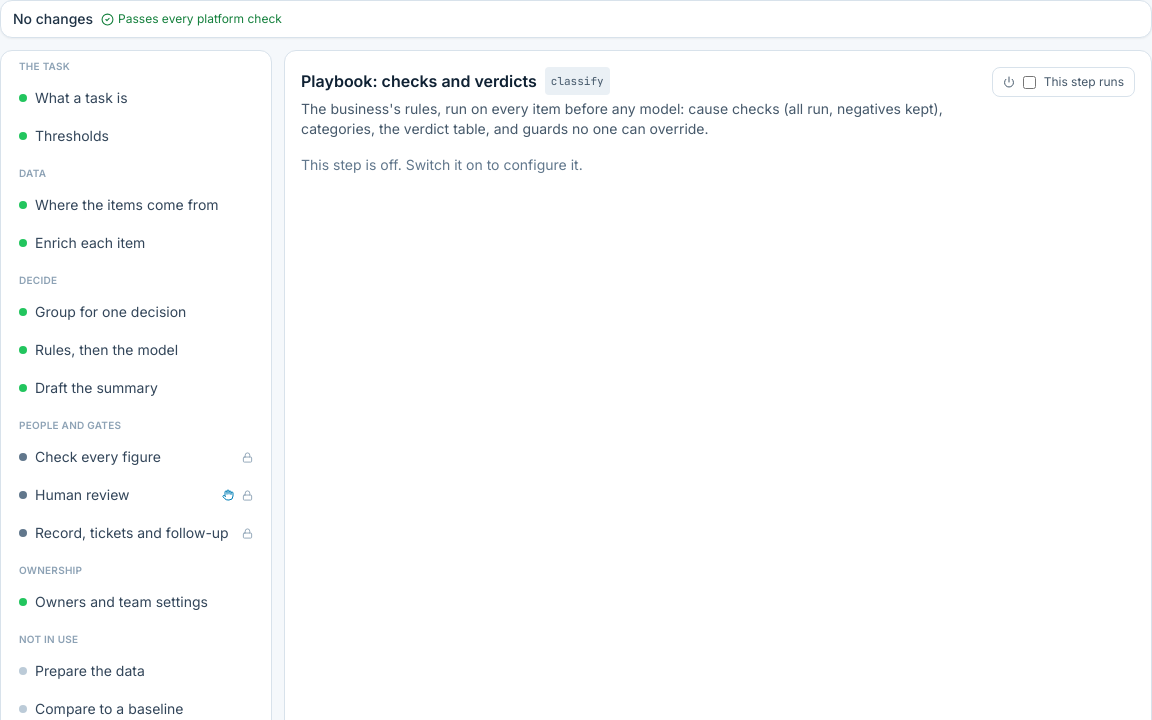
Test: Orchestrator editor › lets an agent owner switch steps and shows each problem on its step
The image size is (1152, 720).
Earlier steps of the test are not shown.
Later steps or results of the test are not shown.
Click the checkbox labelled "This step runs" at (1029, 82), box [1023,76,1036,88]
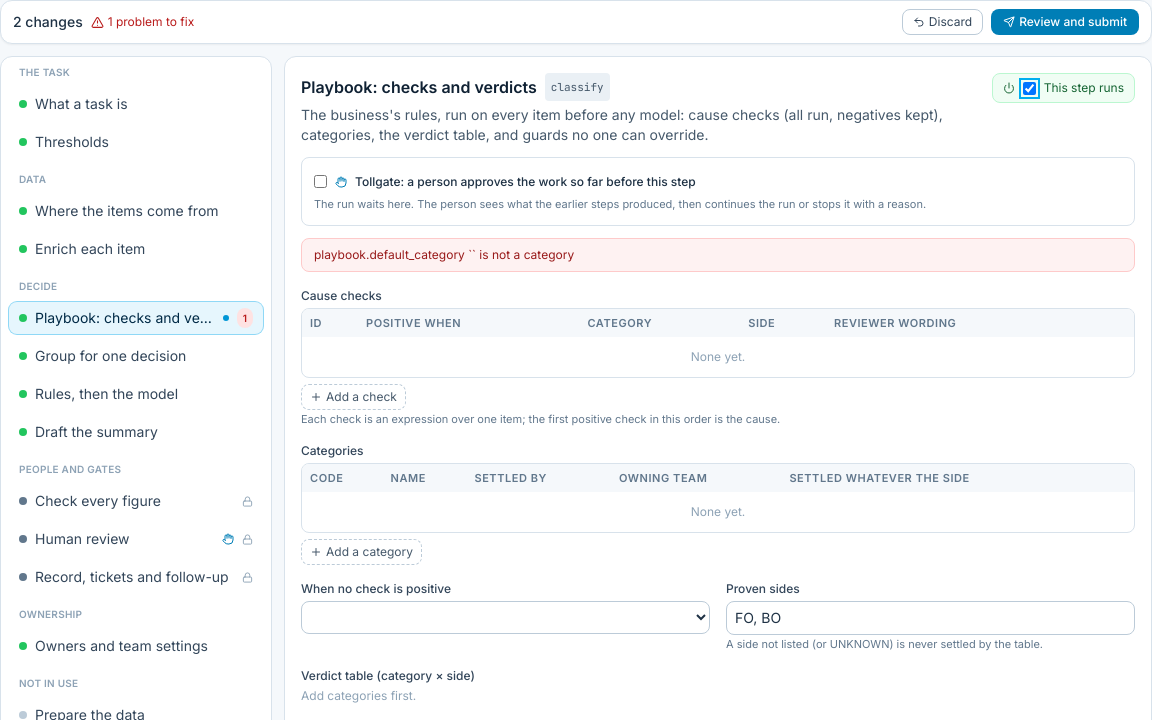
Expected: the text "1 problem to fix" is shown, [91,14,194,30]
Expected: the list item "playbook.default_category `` is not a category" is shown, [314,246,574,262]
Click the checkbox labelled "This step runs" at (1029, 88), box [1023,82,1036,94]
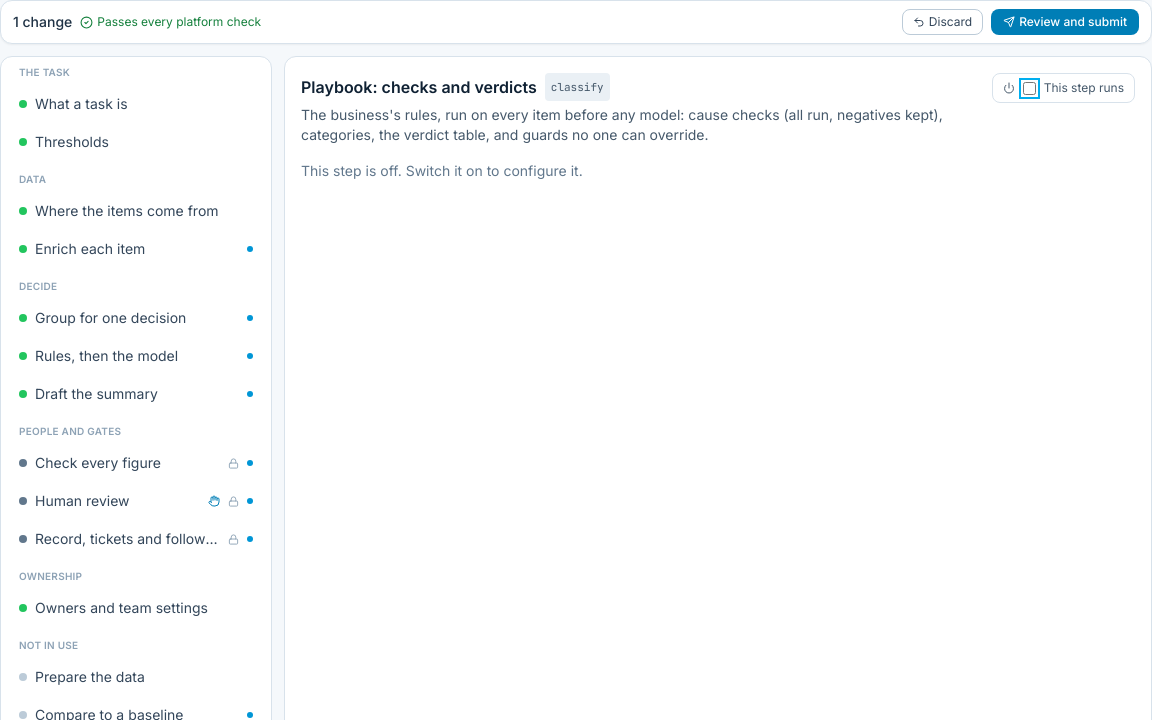
Expected: the text "Passes every platform check" is shown, [80,14,261,30]
Note: a tollgate before the model: the run waits for a person, who is named
Click the button "Rules, then the model" at (136, 356), box [9,340,263,372]
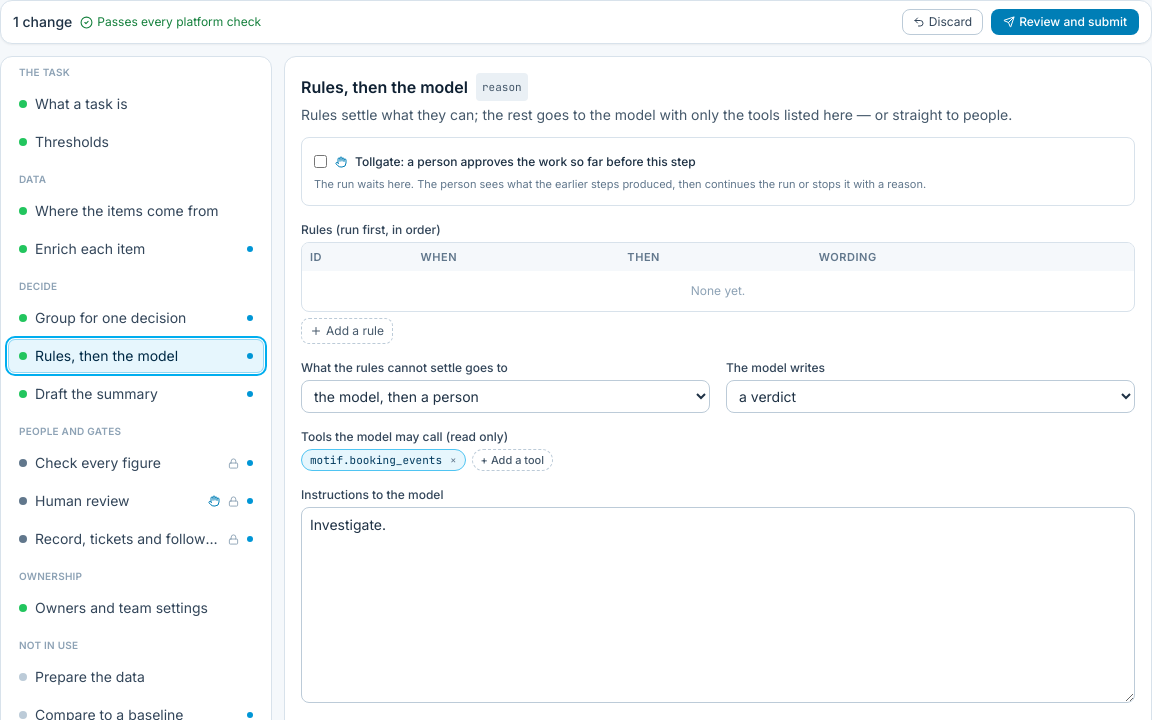
Click the checkbox labelled "Tollgate: a person approves the work so far before this step" at (320, 162), box [314,155,327,168]
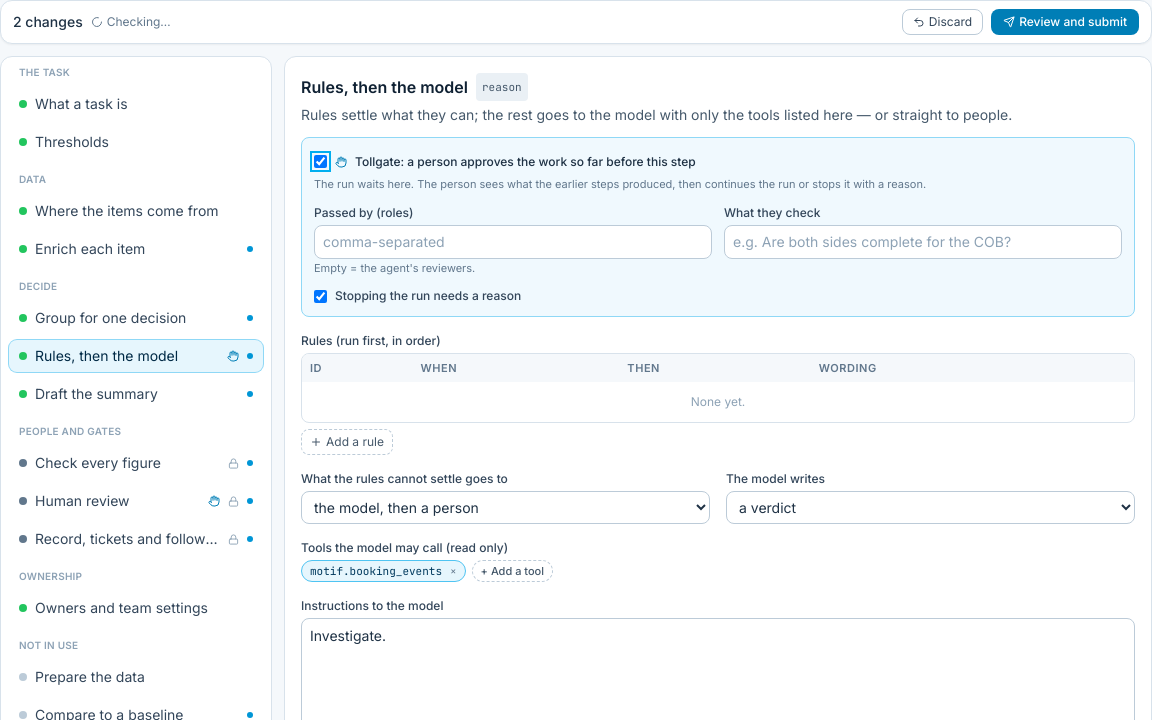
Type "Are both sides complete?" into the field labelled "What they check" at (923, 242), box [724,224,1122,258]
Note: switching enrich off, and submitting the whole manifest as a draft
Click the button "Enrich each item" at (136, 249), box [9,233,263,265]
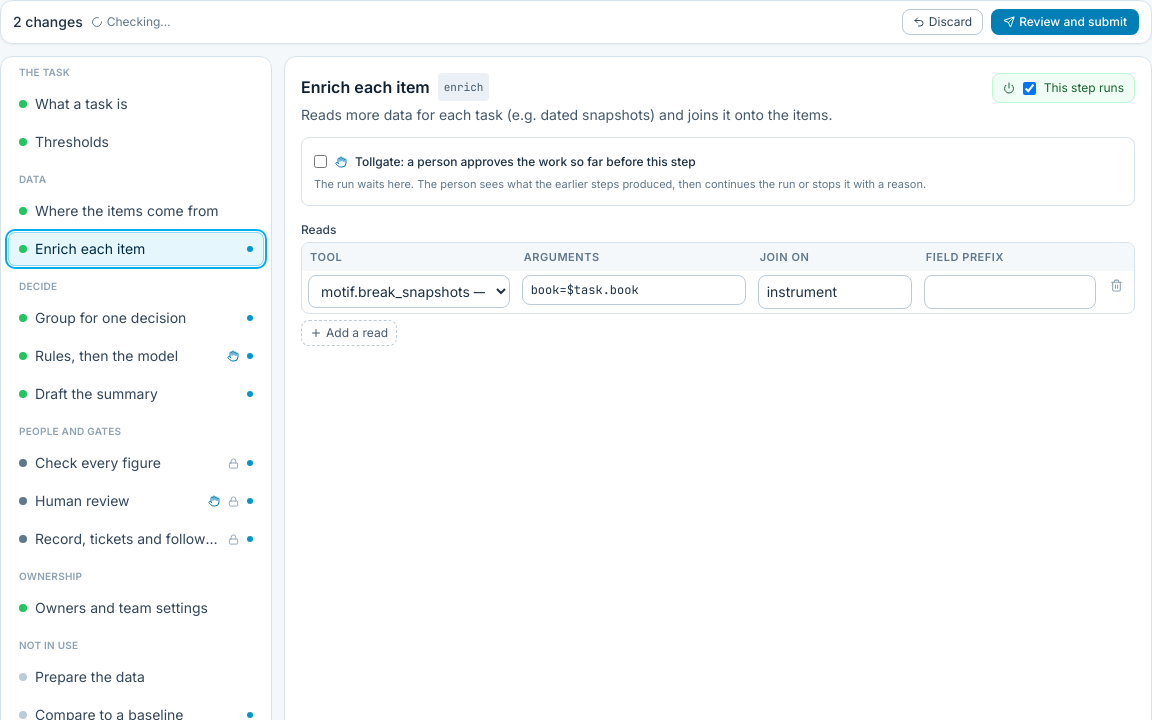
Click the checkbox labelled "This step runs" at (1029, 88), box [1023,82,1036,94]
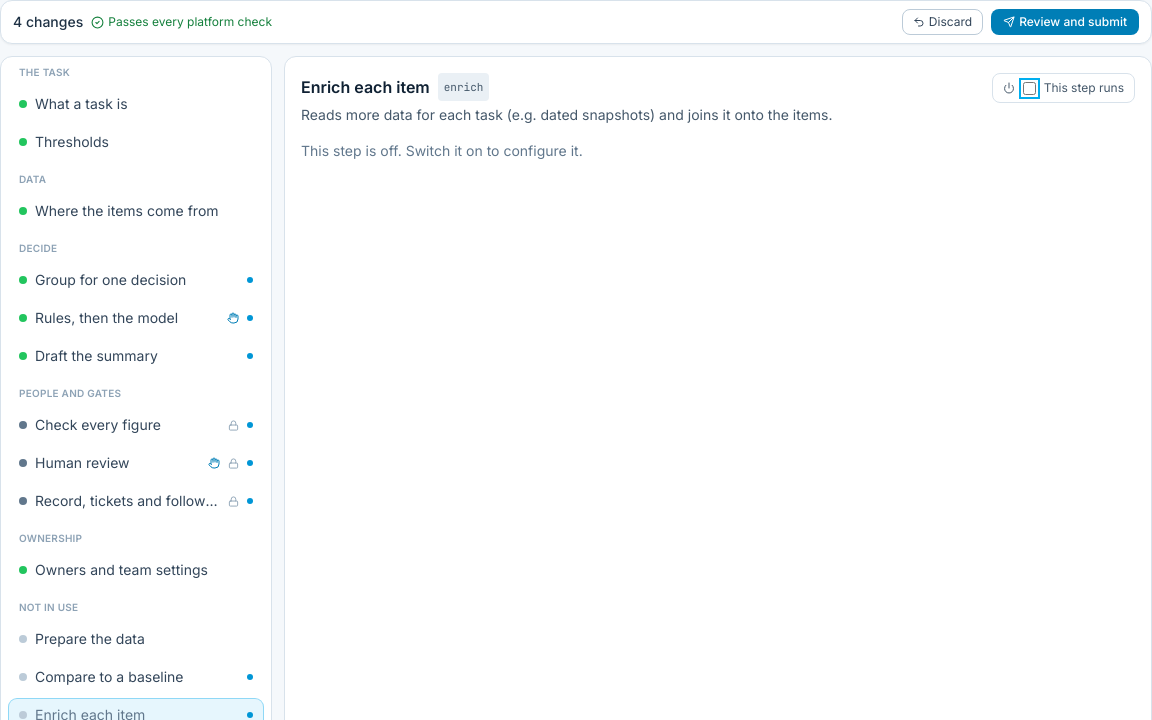
Expected: the text "Passes every platform check" is shown, [91,14,272,30]
